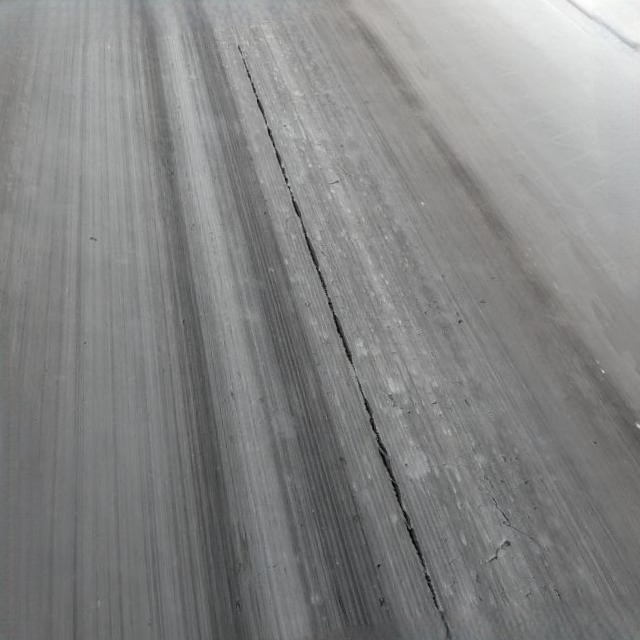Puncture: (504, 538, 511, 546), (489, 556, 498, 562)
Tear: (222, 0, 456, 640), (488, 488, 542, 548)
